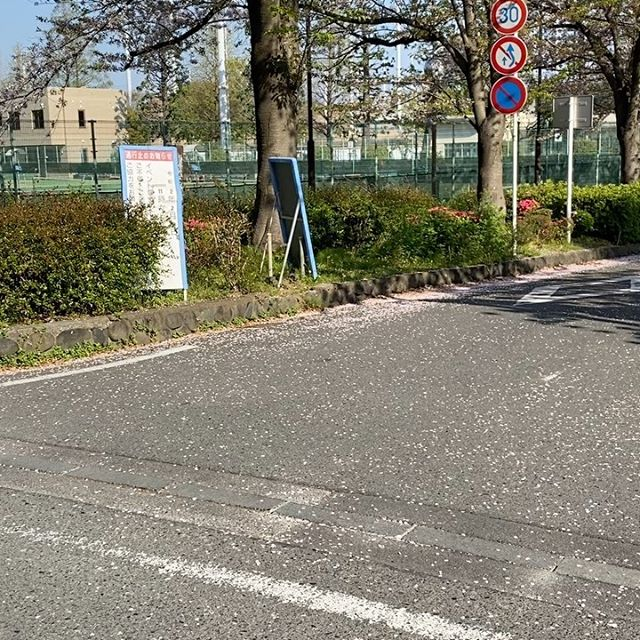building: (3, 89, 130, 168)
sign: (120, 142, 195, 307), (488, 1, 534, 124)
street: (1, 260, 640, 640)
tree: (158, 1, 345, 237)
